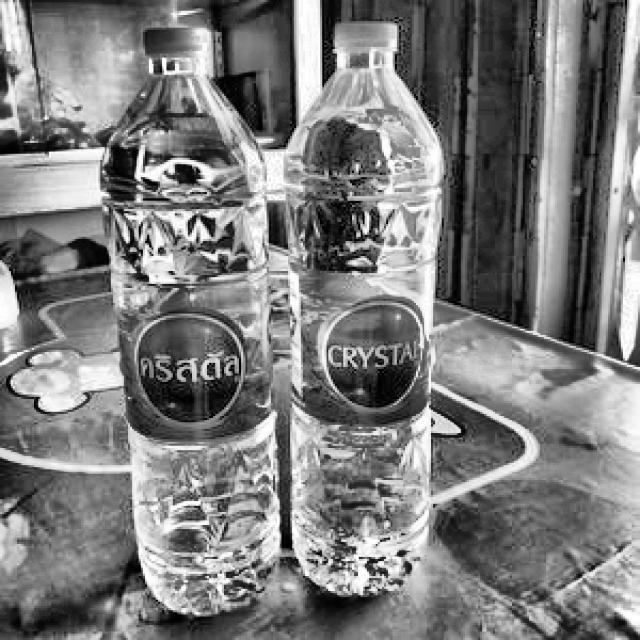waterbottle: (101, 26, 283, 620), (289, 23, 441, 605)
